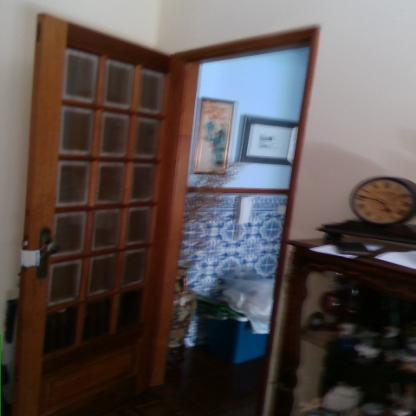open: (13, 4, 323, 416)
